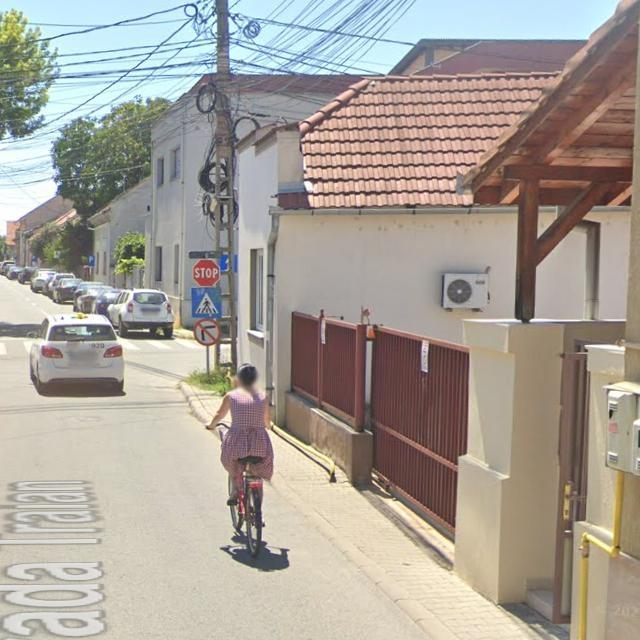info_crosswalk: (191, 286, 222, 320)
prio_stop: (192, 260, 219, 287)
